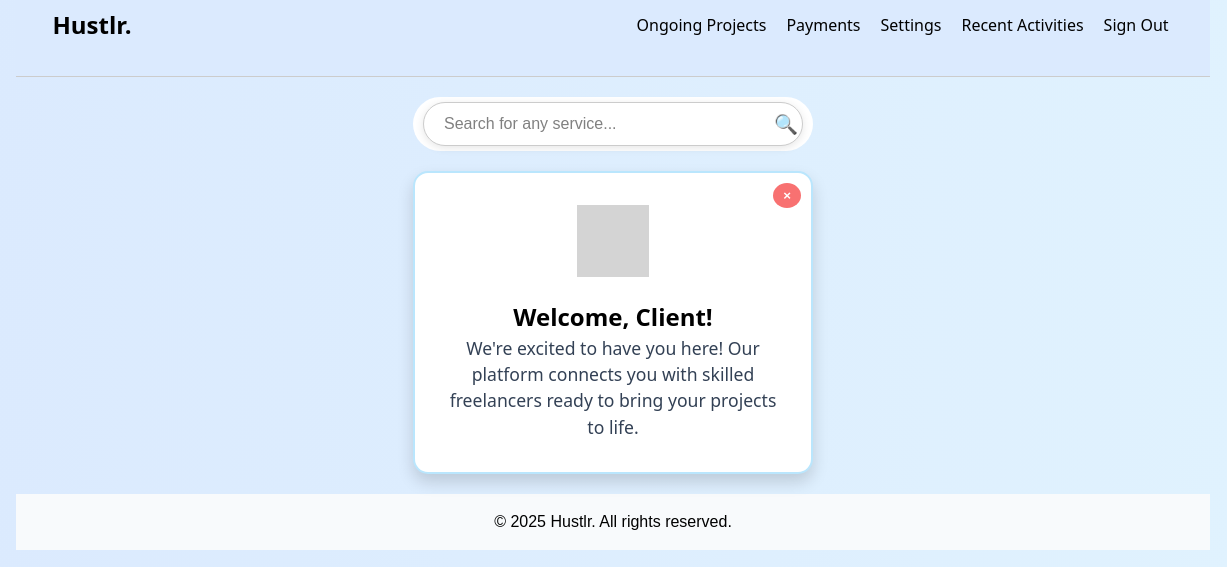
Client Component › hides welcome message and shows categories after closing message
Click the button "×" at (787,195), box [773, 183, 801, 208]
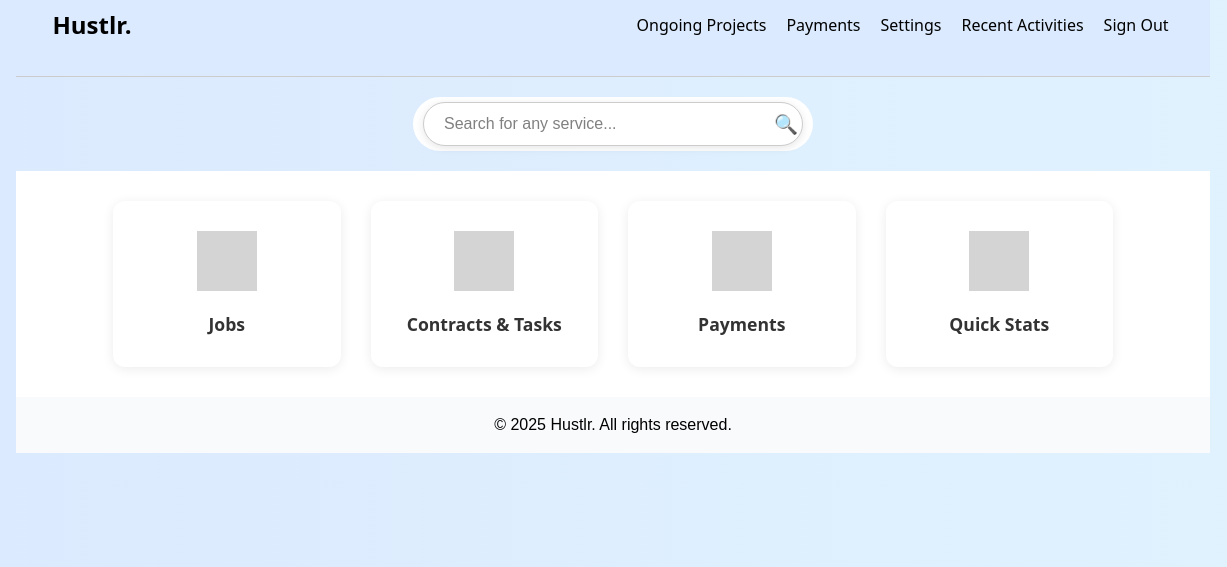
Expected: the heading "Welcome, Client!" is gone
Expected: the text "Jobs" is shown, [208, 311, 245, 337]
Expected: the text "Contracts & Tasks" is shown, [407, 311, 562, 337]
